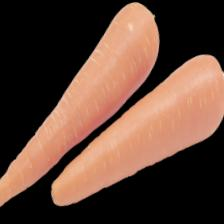carrot: (0, 0, 164, 224), (48, 36, 224, 224)
